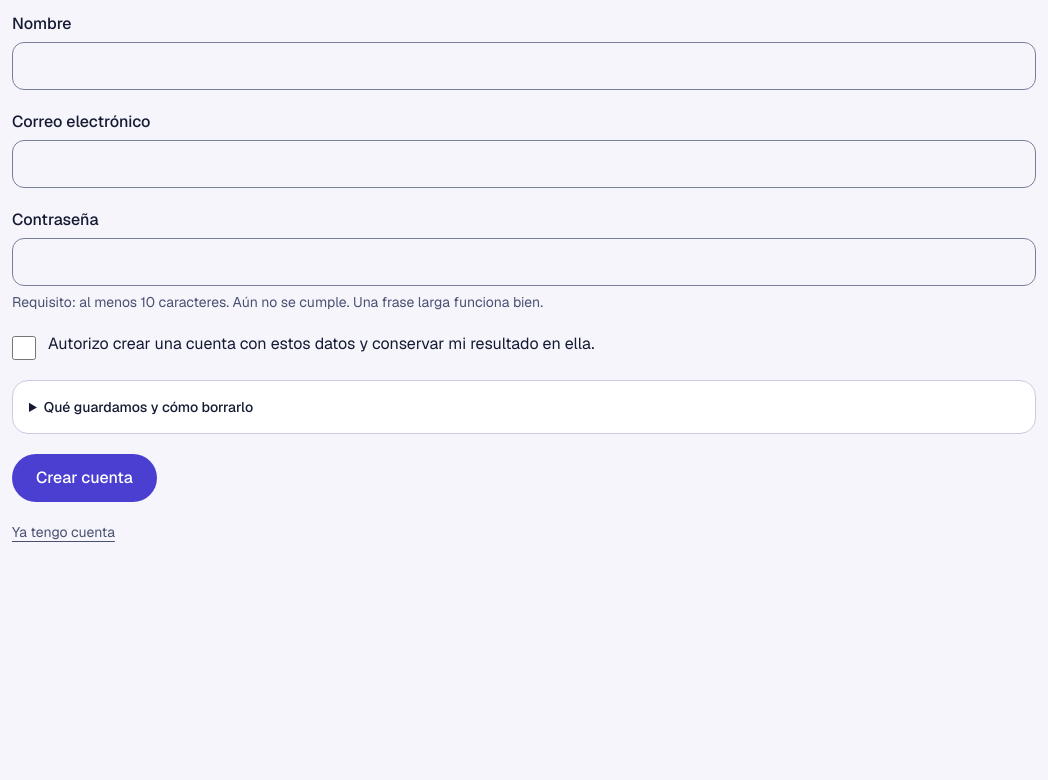
Scenario: SignUpForm › shows the server error message in an alert and re-enables the form
This screenshot has width=1048, height=780.
Step 1. Type "Ana" into the field labelled "Nombre" → (524, 66), box [12, 42, 1036, 90]
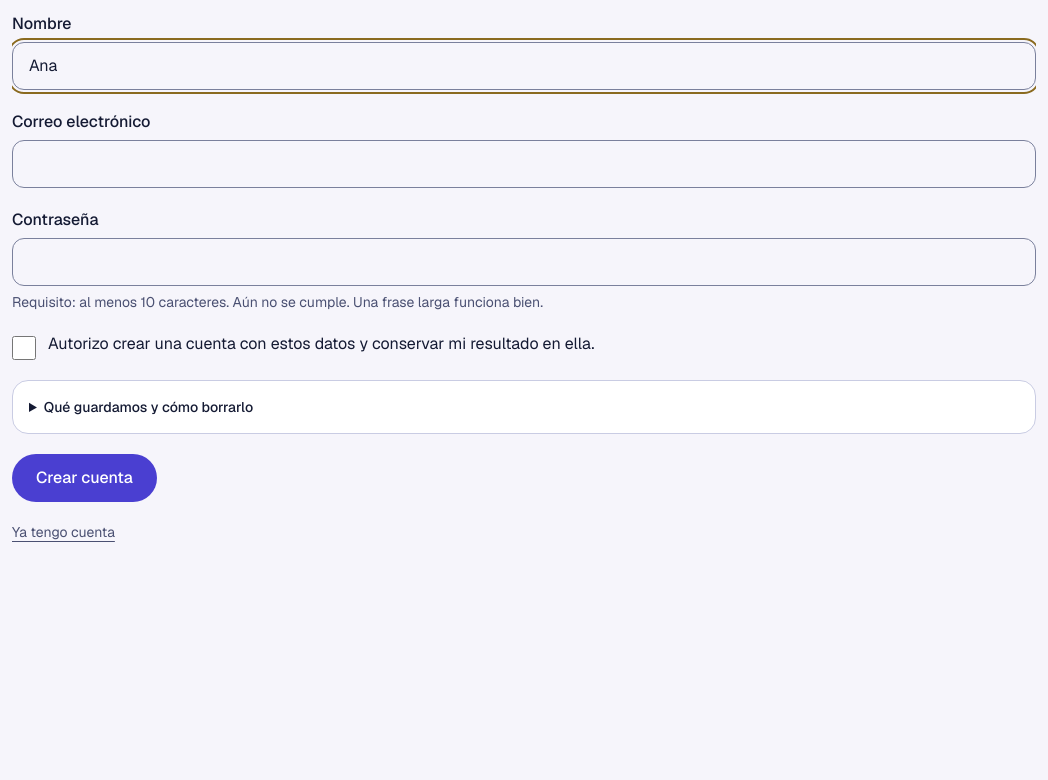
Step 2. Type "ana@example.com" into the field labelled "Correo electrónico" → (524, 164), box [12, 140, 1036, 188]
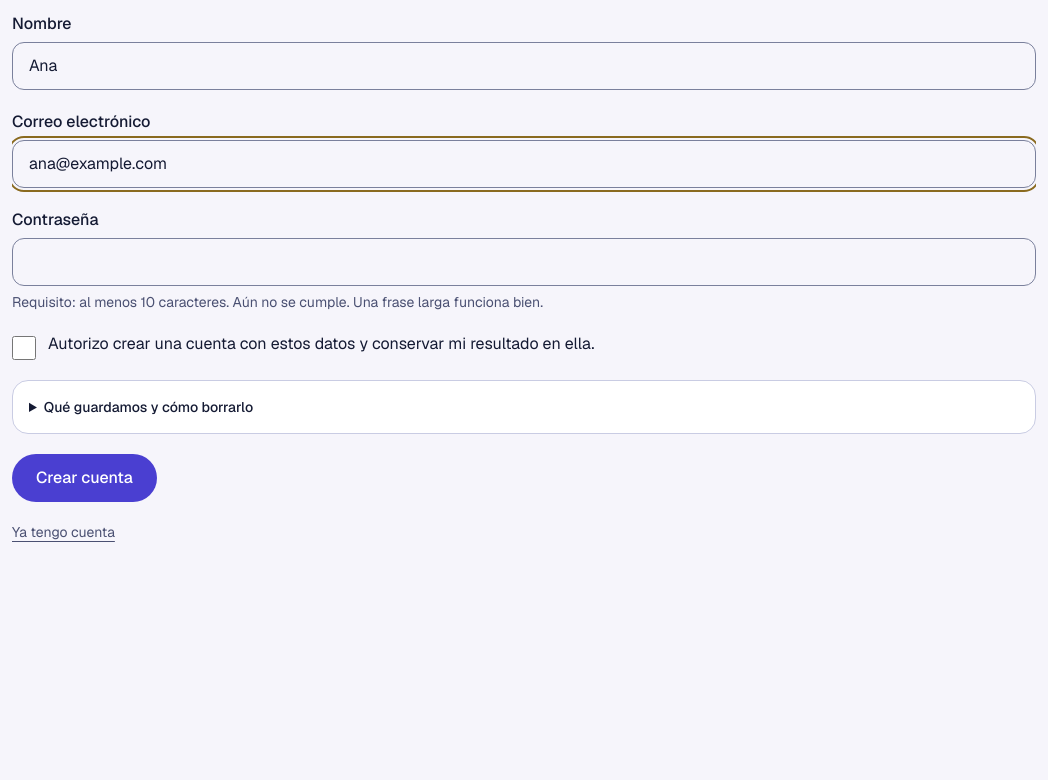
Step 3. Type "una-clave-larga-1" into the password field labelled "Contraseña" → (524, 262), box [12, 238, 1036, 286]
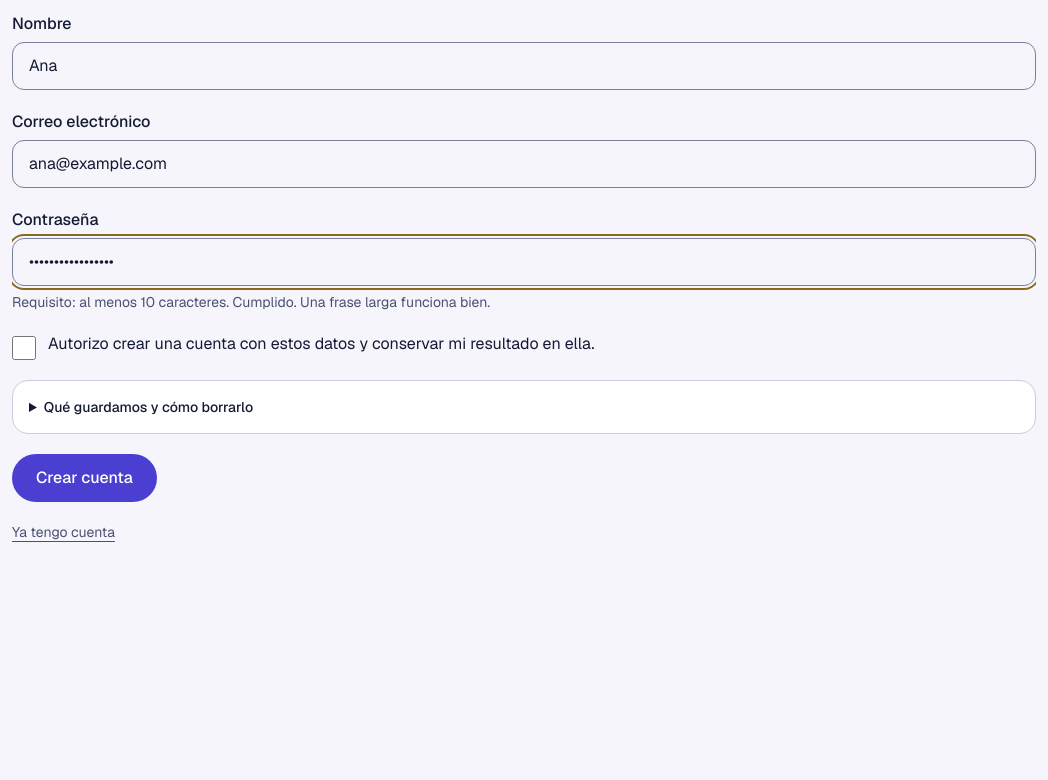
Step 4. Click the checkbox → (24, 348), box [12, 336, 36, 360]
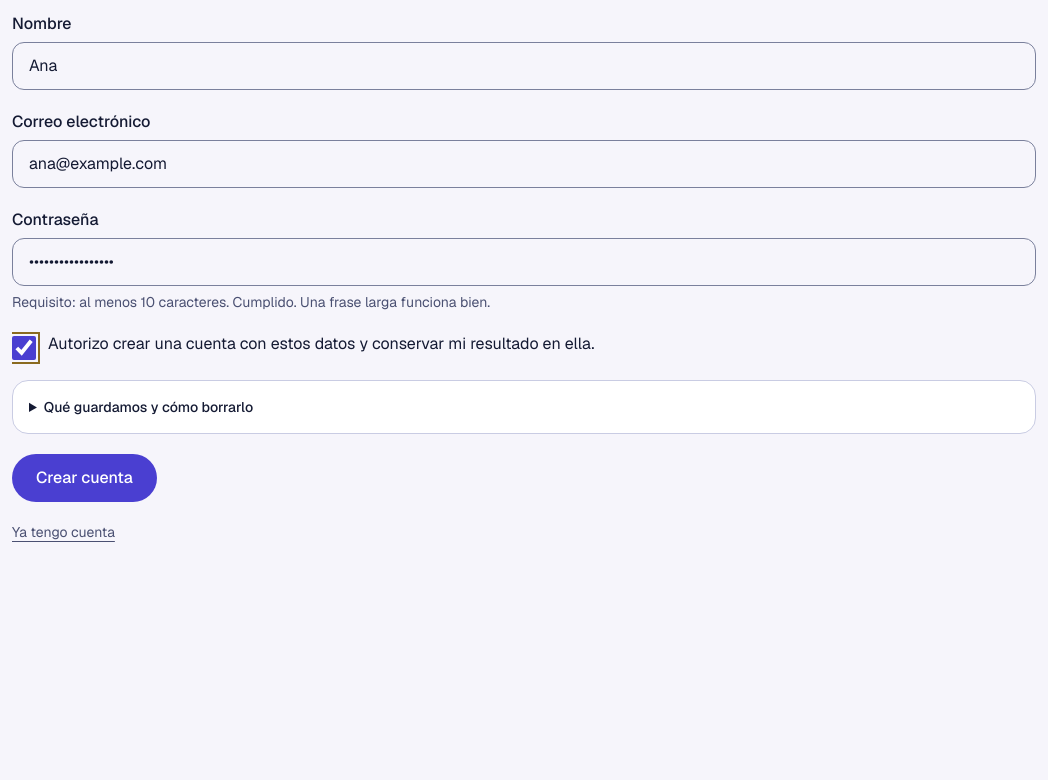
Step 5. Click the button "Crear cuenta" → (84, 478), box [12, 454, 157, 502]
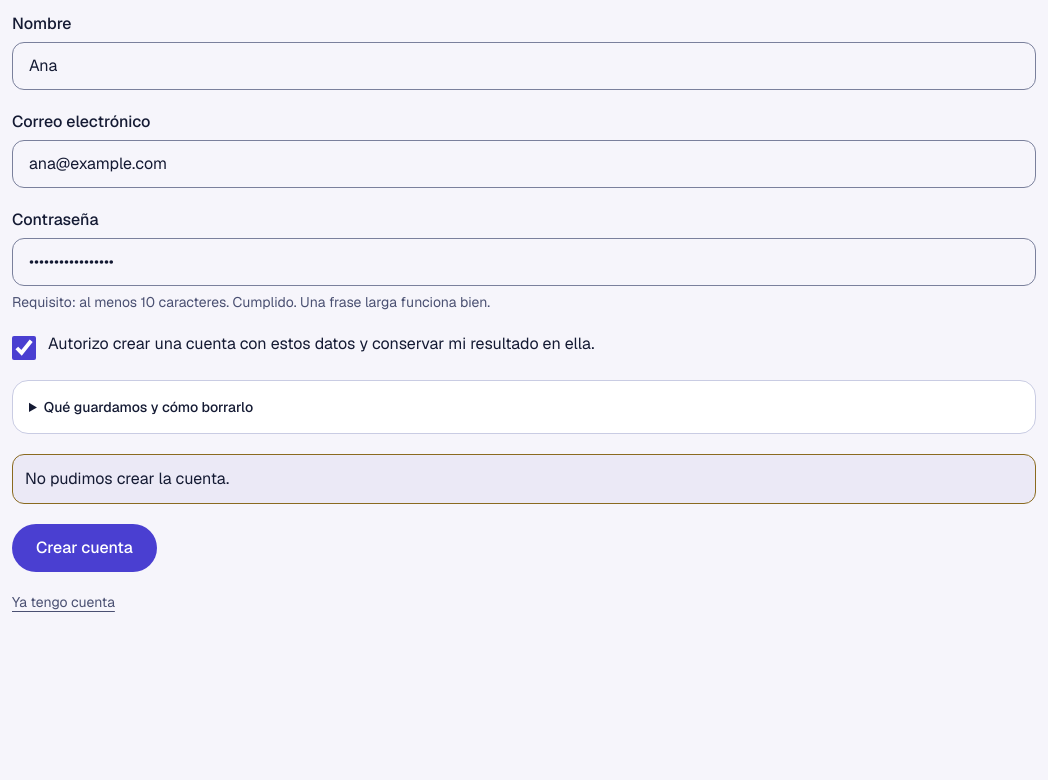
expect the button "Crear cuenta" is enabled: met, box [12, 524, 157, 572]
expect the message reads "No pudimos crear la cuenta.": met, box [25, 468, 229, 489]
